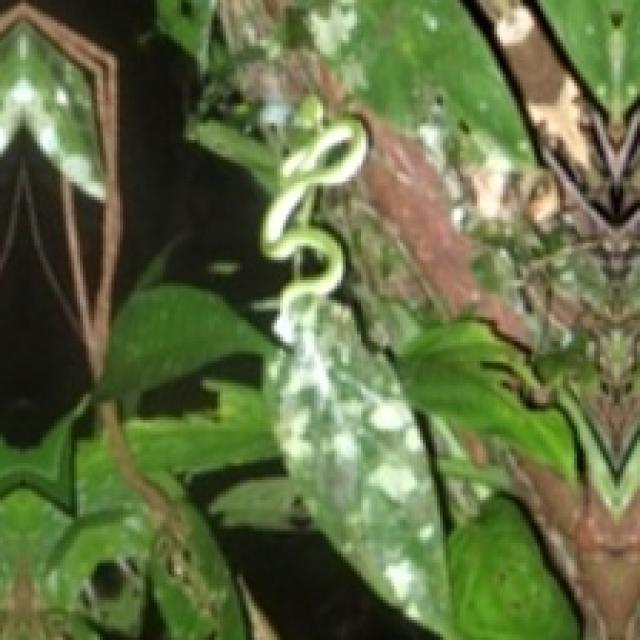north ph temple pitviper: (260, 117, 366, 340)
